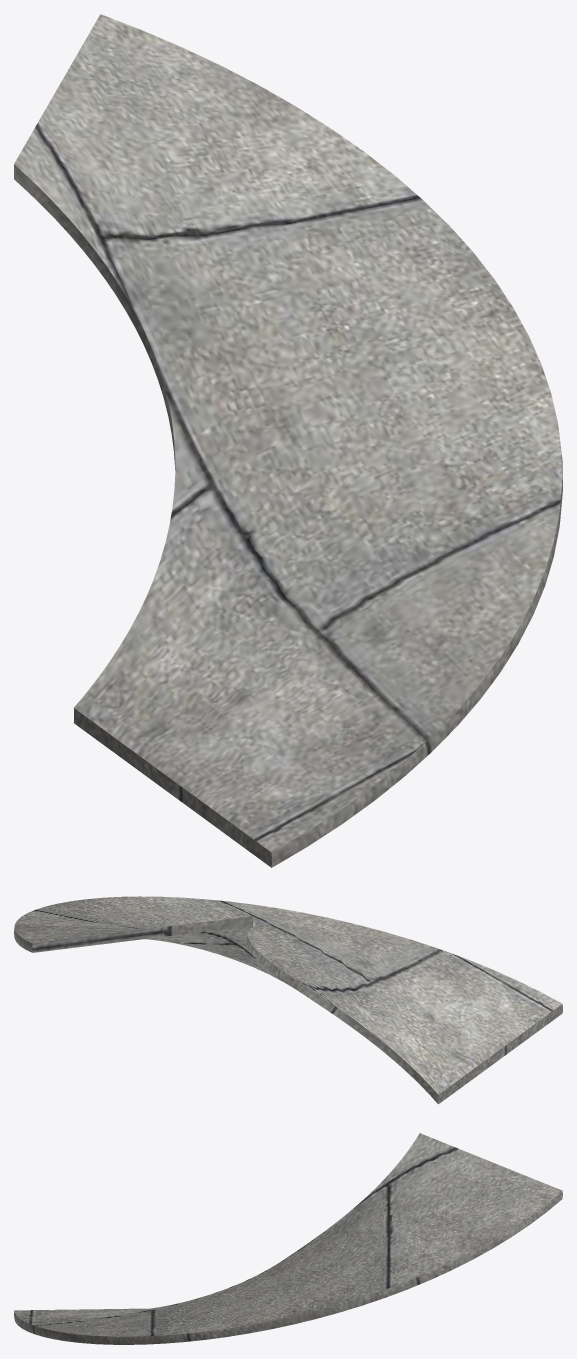
File: WestStair_Cover_Collider.fbx
3 views of the same model, one above another, from view 1: azimuth 30°, elevation 25°; view 2: azimuth 150°, elevation 25°; view 3: azimuth 270°, elevation 25° (orthographic). The views are drawn at different scales.
Parts seen in each view (by area): view 1: Cover; view 2: Cover; view 3: Cover.
Part boxes in pixels (x1=…): Cover: x1=14, y1=14, x2=562, y2=867; Cover: x1=14, y1=896, x2=562, y2=1104; Cover: x1=14, y1=1133, x2=562, y2=1344.
Size of the model in its own units: 966 by 734 by 1686.
